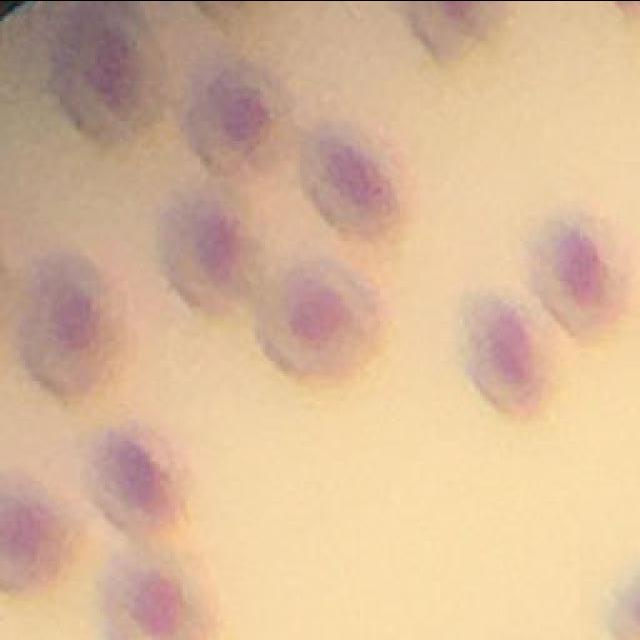RBC: (35, 0, 171, 149), (172, 46, 297, 178), (15, 250, 126, 395), (256, 258, 385, 377), (158, 186, 265, 322), (297, 116, 410, 242), (527, 210, 632, 338), (100, 550, 218, 640), (462, 292, 550, 412), (88, 425, 185, 530), (0, 472, 65, 594), (407, 0, 484, 61)
